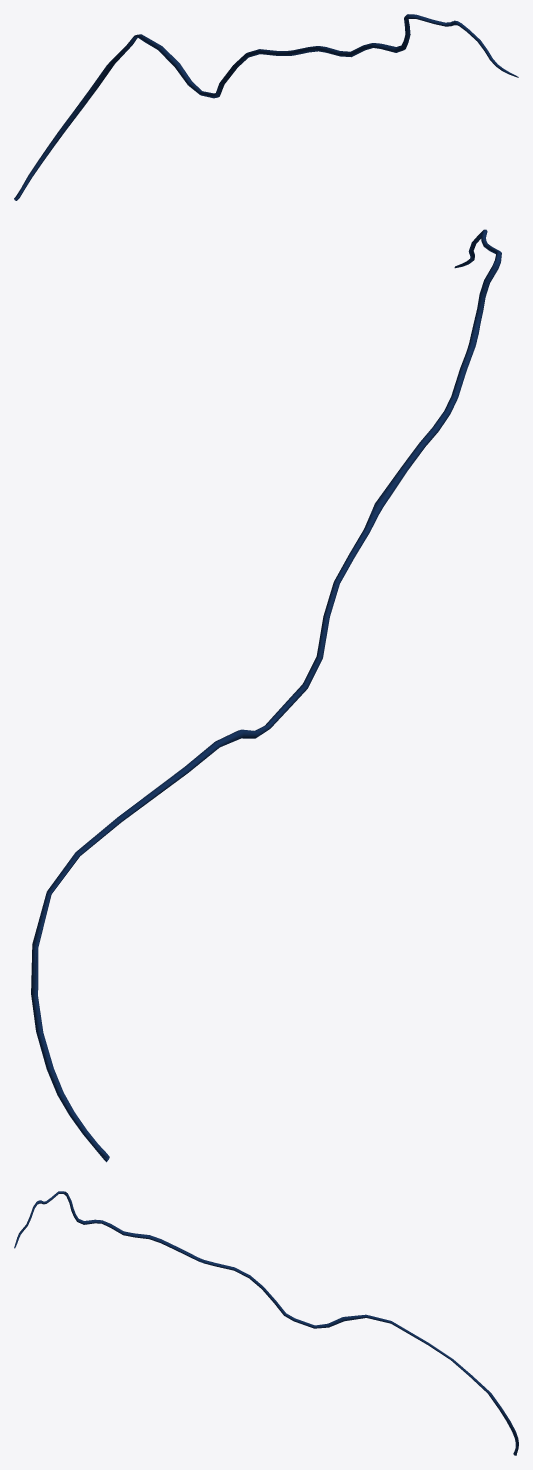
The model's file is L vena vertebralis.fbx.
3 renders of one model, top to bottom at view 1: azimuth 30°, elevation 25°; view 2: azimuth 150°, elevation 25°; view 3: azimuth 270°, elevation 25°, orthographic. The views are drawn at different scales.
Parts seen in each view (by area): view 1: L vena vertebralis; view 2: L vena vertebralis; view 3: L vena vertebralis.
Part boxes in pixels (x1,y1,x2,y2): L vena vertebralis: (14, 14, 518, 200); L vena vertebralis: (31, 229, 501, 1161); L vena vertebralis: (14, 1191, 518, 1455).
Bounding box in the file's own units: 5.87 × 20.35 × 33.21.
